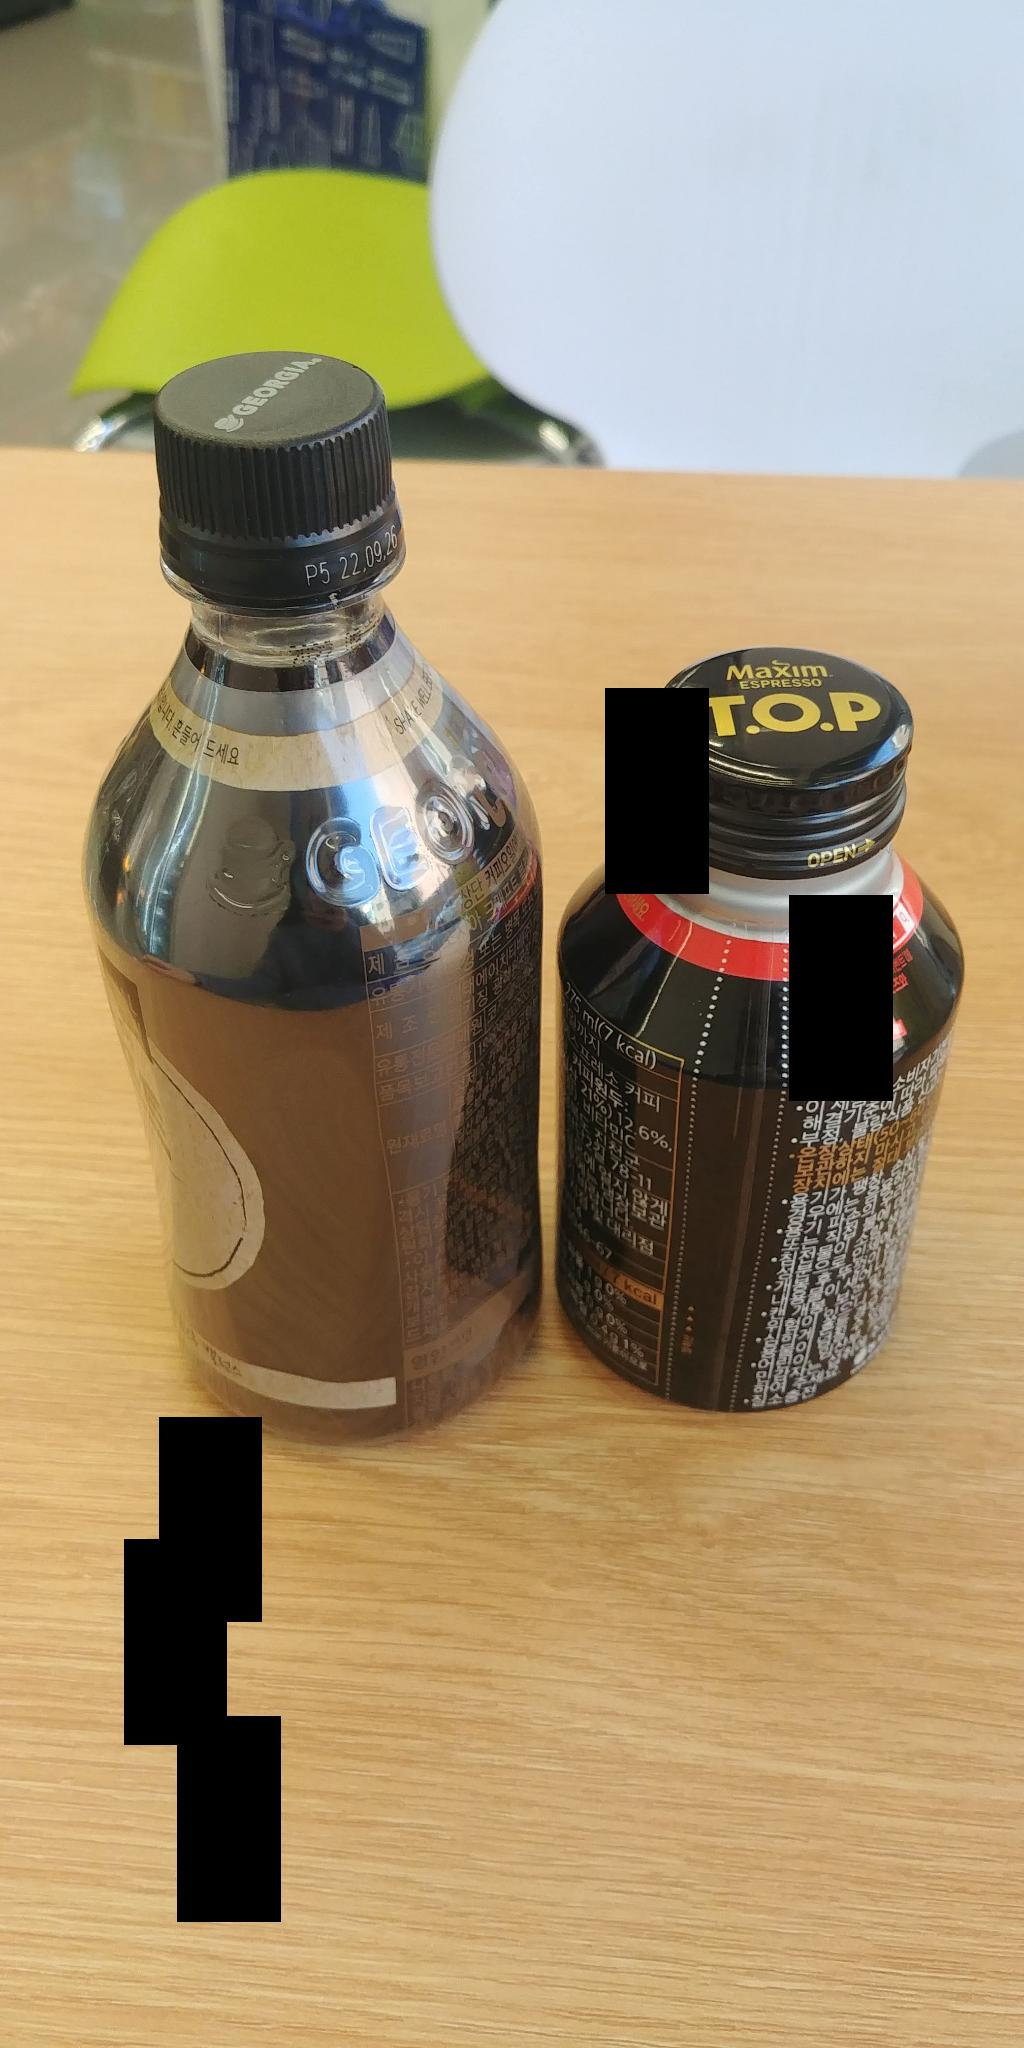TOP_black: (559, 551, 994, 1433)
georgiacraft_black: (46, 340, 519, 1481)
